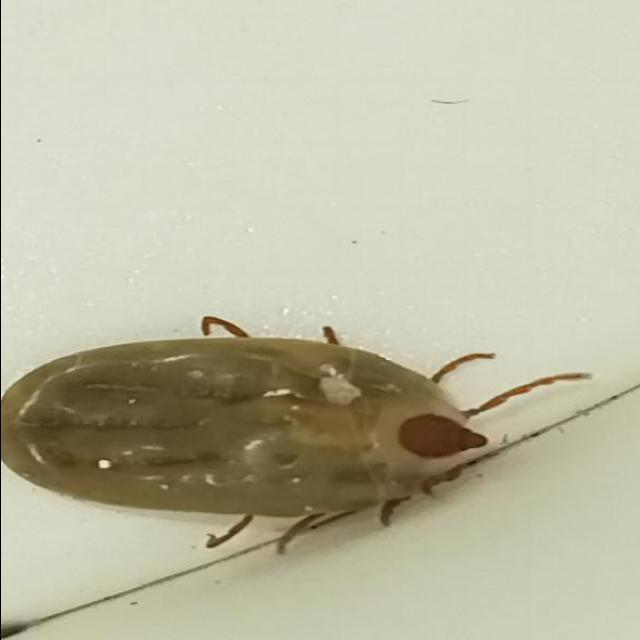Rhipicephalus Sanguineus-F-Fed: (0, 316, 590, 555)
